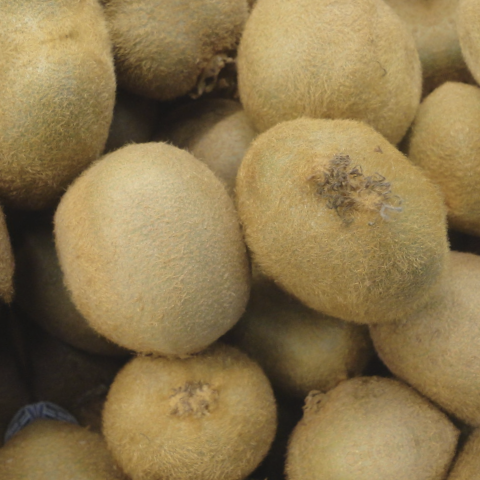kiwi: (14, 116, 296, 404), (203, 75, 476, 366), (208, 0, 445, 181), (77, 307, 297, 480)
